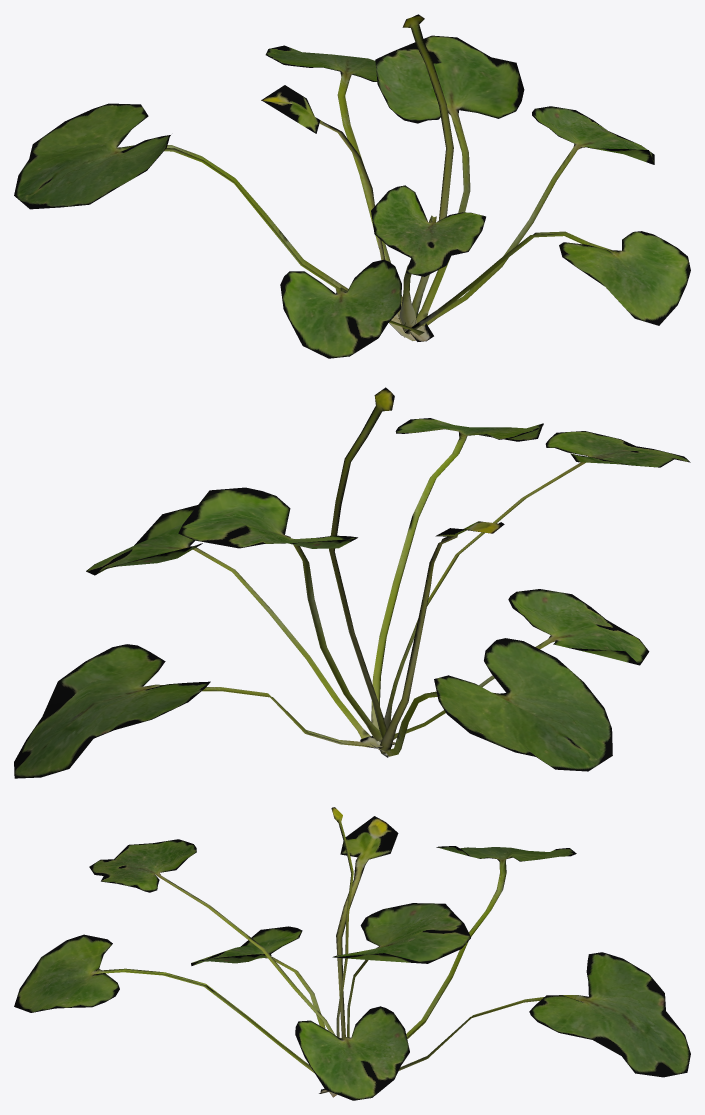
File: celandine_01_b.glb
3 views of the same model, one above another, from view 1: azimuth 30°, elevation 25°; view 2: azimuth 150°, elevation 25°; view 3: azimuth 270°, elevation 25° (orthographic). The views are drawn at different scales.
Parts seen in each view (by area): view 1: celandine_01_b_LOD0; view 2: celandine_01_b_LOD0; view 3: celandine_01_b_LOD0.
Boxes of the visible parts, <box> form: celandine_01_b_LOD0: <box>14,14,690,358</box>; celandine_01_b_LOD0: <box>14,387,690,778</box>; celandine_01_b_LOD0: <box>14,807,690,1100</box>.
Size of the model in its own units: 0.2517 by 0.1445 by 0.3067.
Materials: 1 (1 with a texture image).
